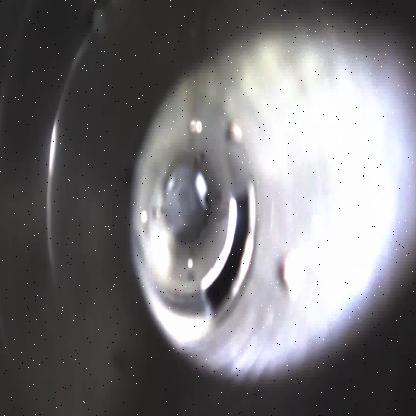Crack2: (200, 183, 255, 322)
